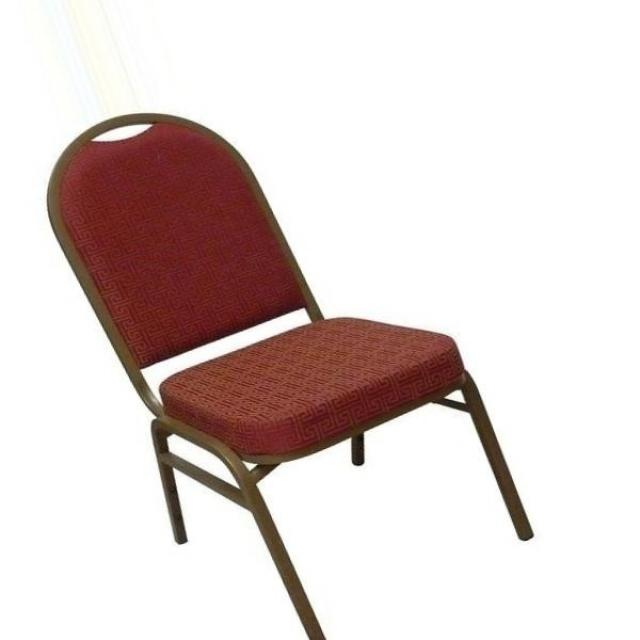Chair: (41, 109, 538, 640)
